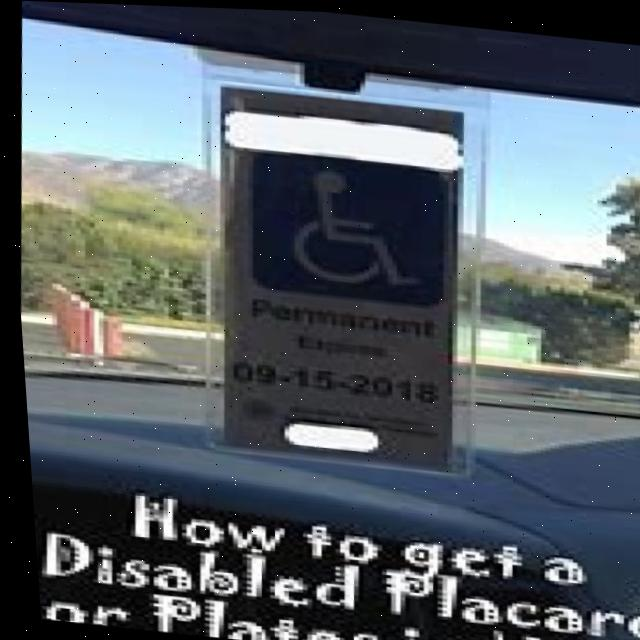symbol_of_access: (270, 164, 426, 293)
